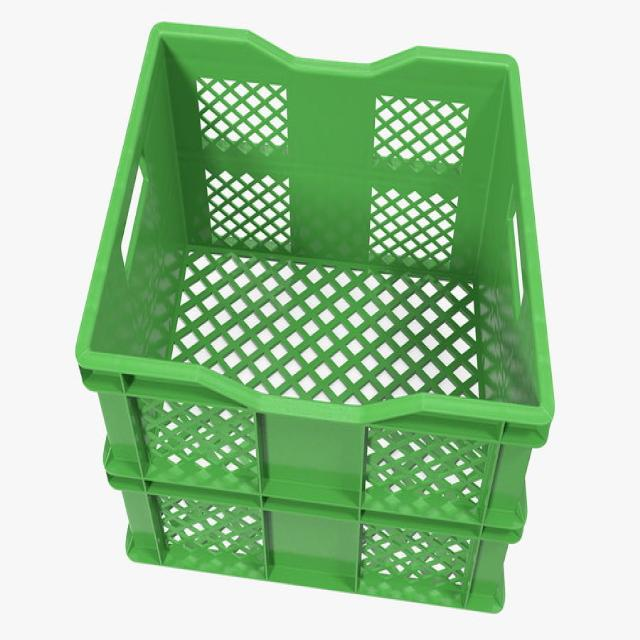basket: (50, 10, 597, 616)
